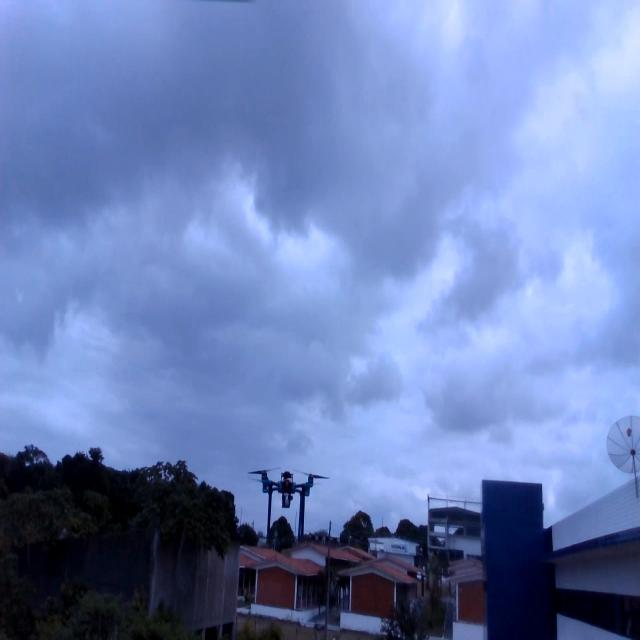-uav-: (237, 448, 329, 551)
